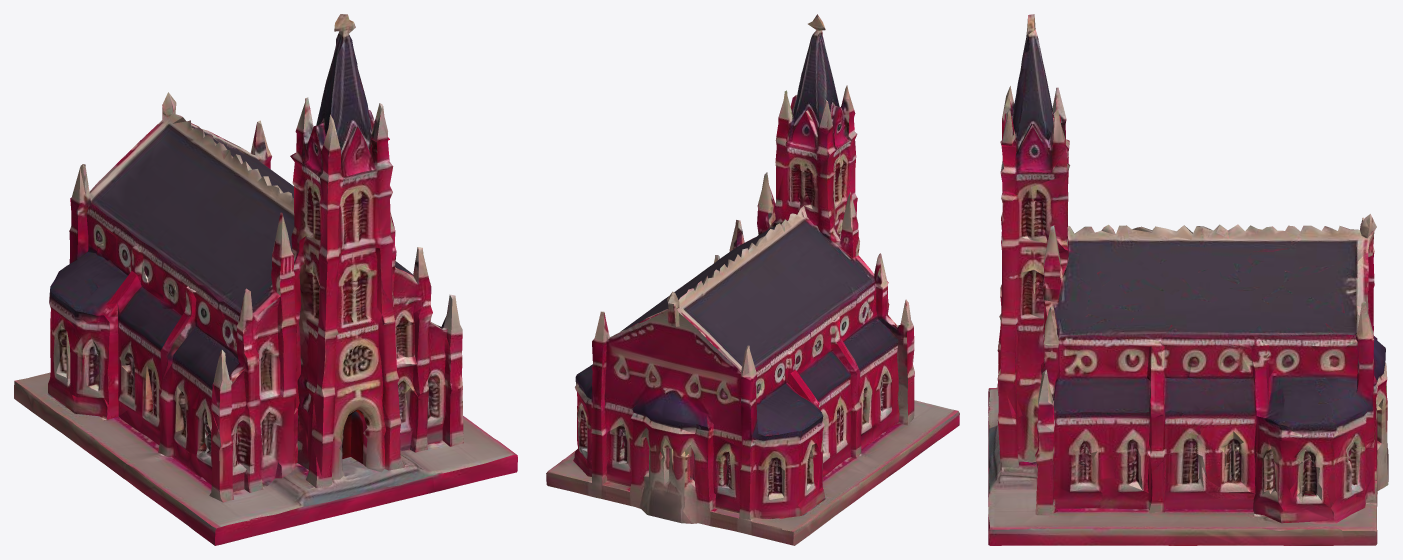
Rendered from tan-dinh-church.glb.
3 views of the same model, side by side, from view 1: azimuth 30°, elevation 25°; view 2: azimuth 150°, elevation 25°; view 3: azimuth 270°, elevation 25° (orthographic). The views are drawn at different scales.
Visible parts, largest first — view 1: logan-textured.obj; view 2: logan-textured.obj; view 3: logan-textured.obj.
Boxes of the visible parts, x1=… form: logan-textured.obj: x1=14, y1=14, x2=517, y2=545; logan-textured.obj: x1=546, y1=14, x2=959, y2=545; logan-textured.obj: x1=988, y1=14, x2=1388, y2=545.
Bounding box in the file's own units: 0.6623 × 1 × 0.7874.
Materials: 1 (1 with a texture image).
